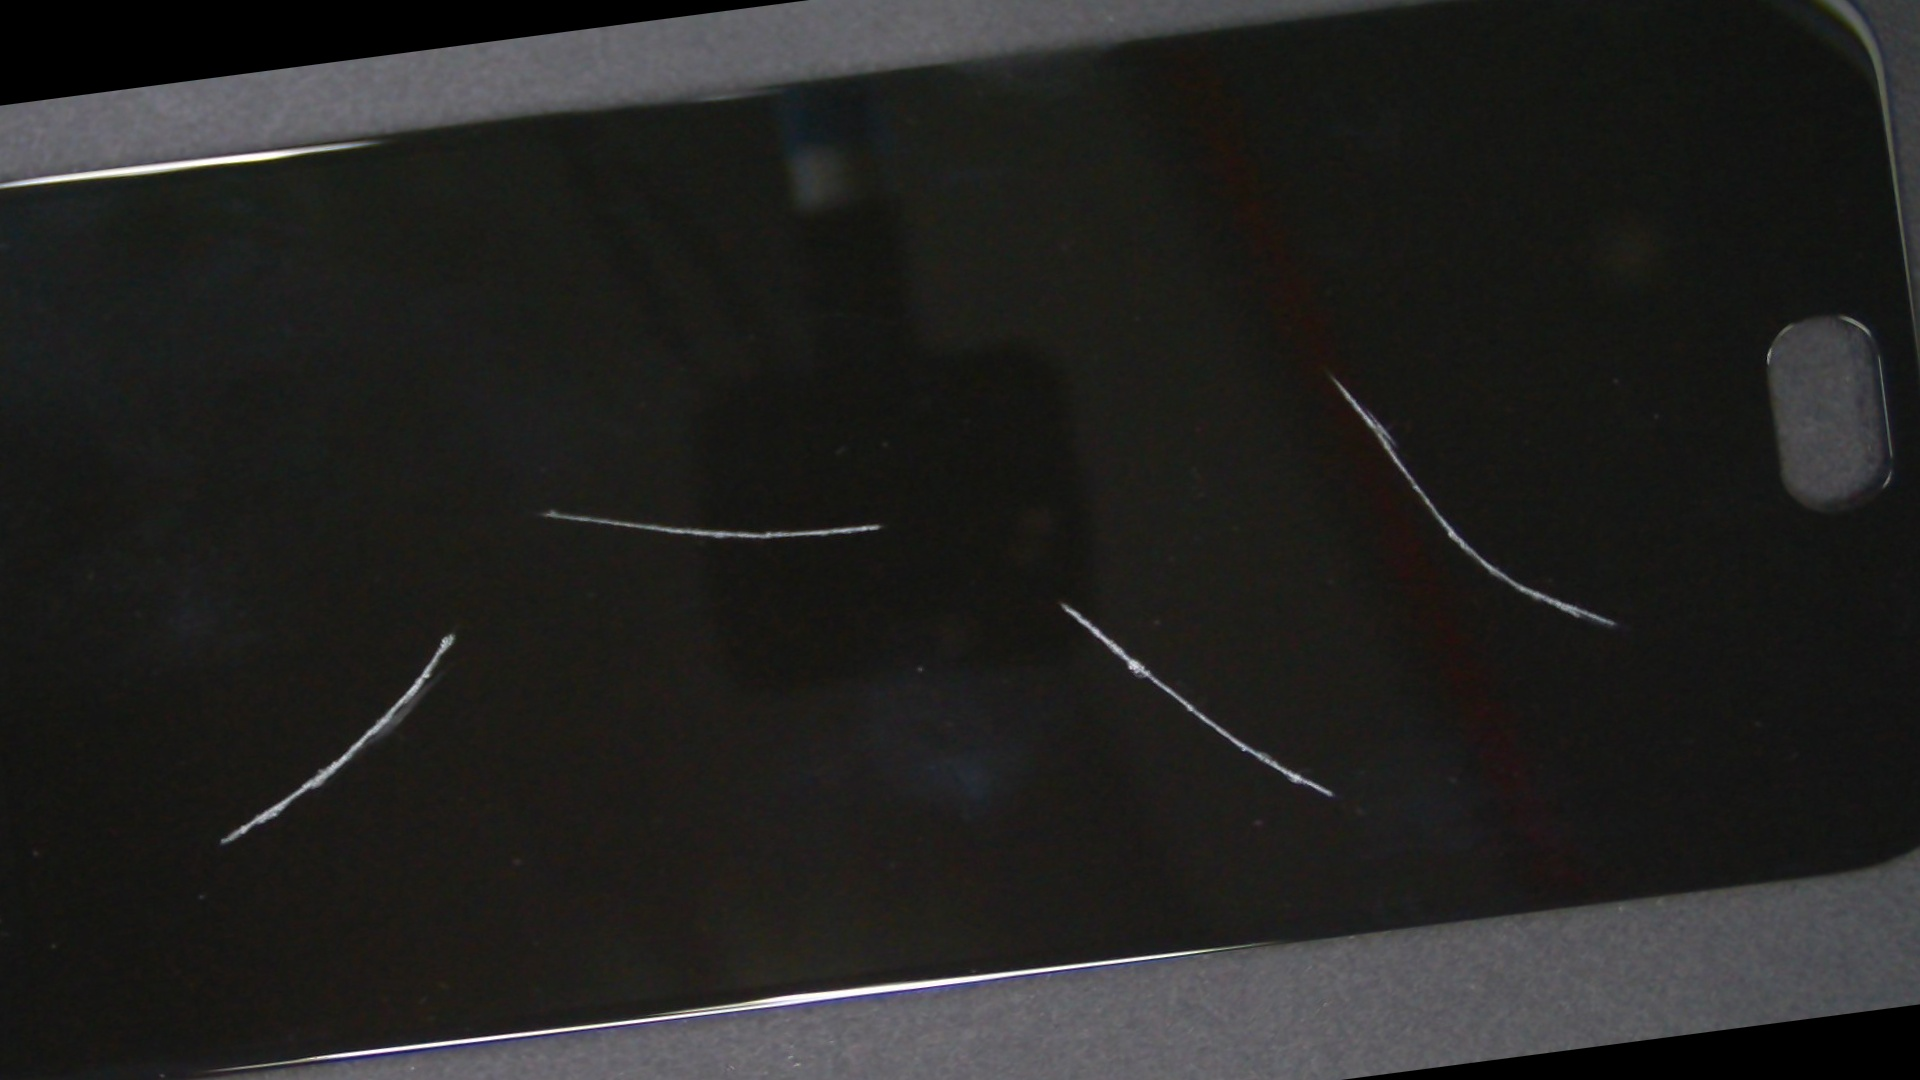oil: (365, 204, 1755, 1000), (500, 70, 1920, 695), (61, 298, 836, 967), (111, 222, 989, 798)
